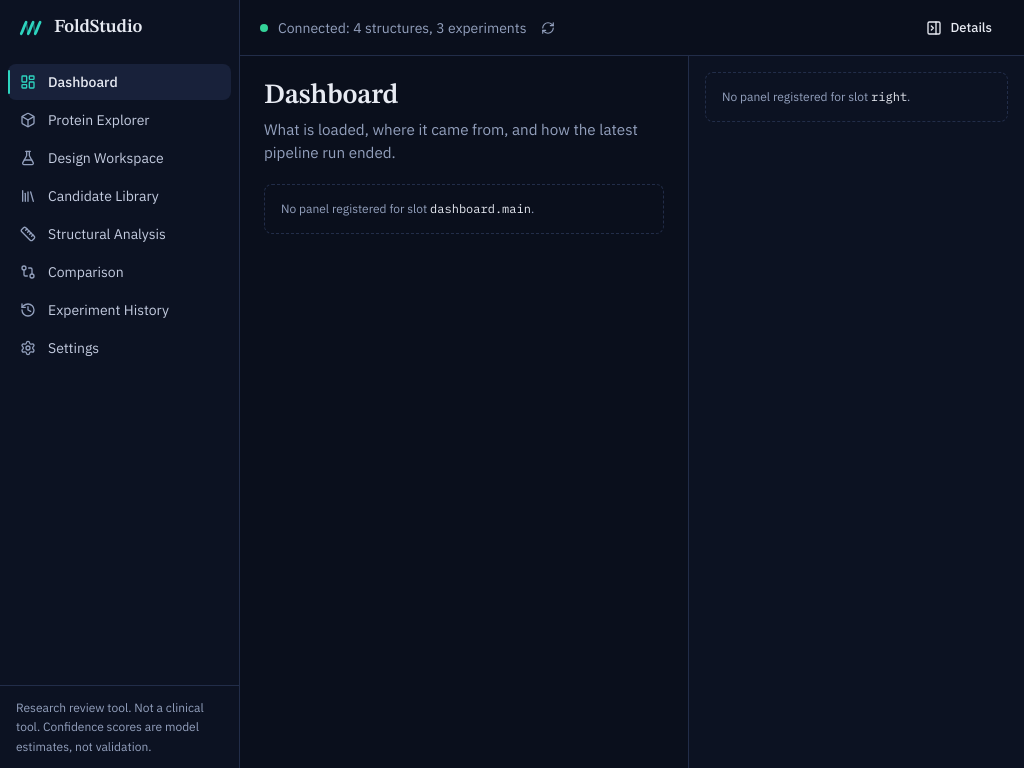
Test: AppShell + routes › collapses and expands the right sidebar
expect the element with id "right-sidebar" is shown: met, box x1=688 y1=56 x2=1023 y2=767
Click the button with aria-label "collapse right sidebar": (959, 28) x1=914 y1=12 x2=1004 y2=44
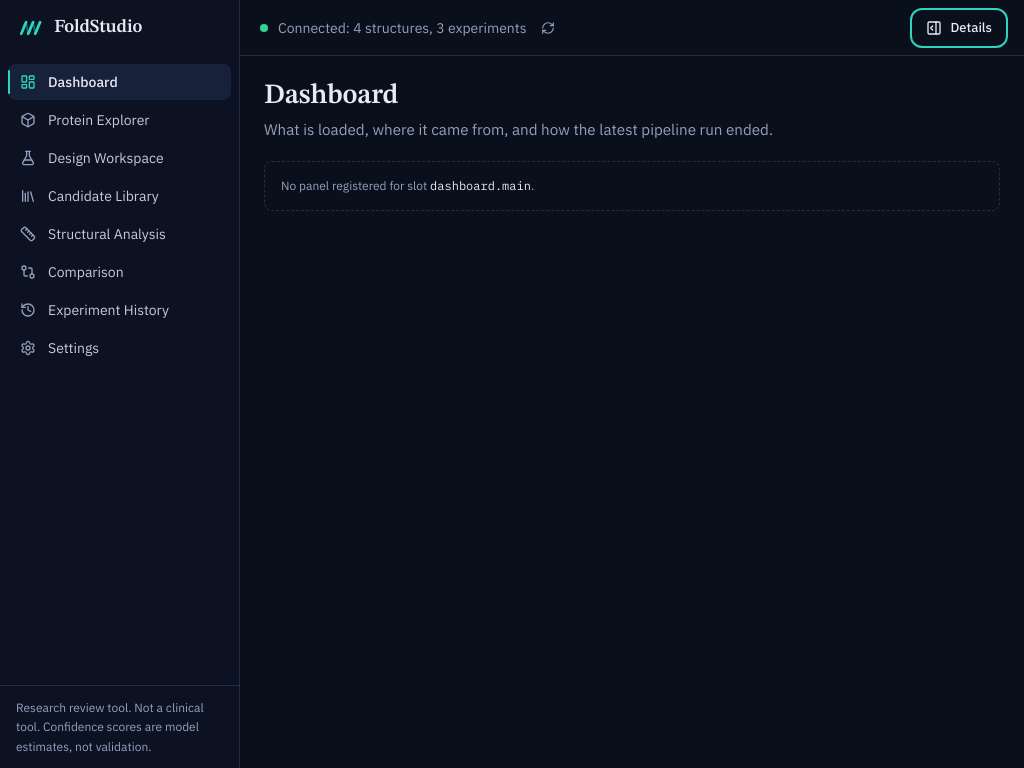
expect the element with id "right-sidebar" is gone: met
Click the button with aria-label "expand right sidebar": (959, 28) x1=914 y1=12 x2=1004 y2=44
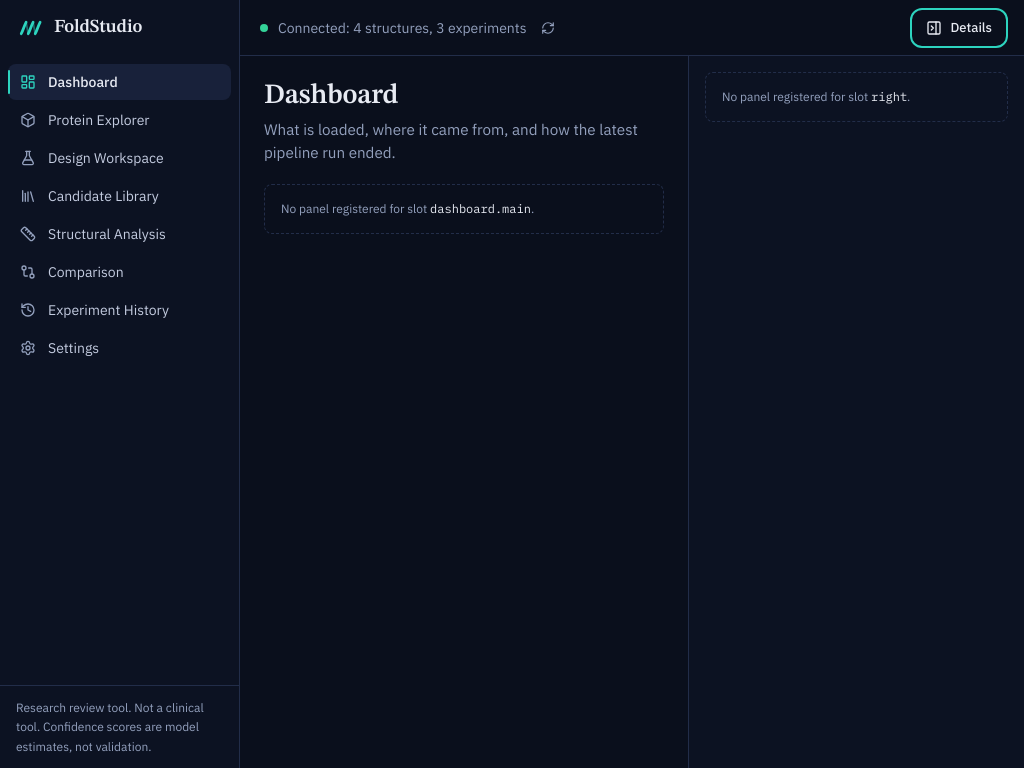
expect the element with id "right-sidebar" is shown: met, box x1=688 y1=56 x2=1023 y2=767
